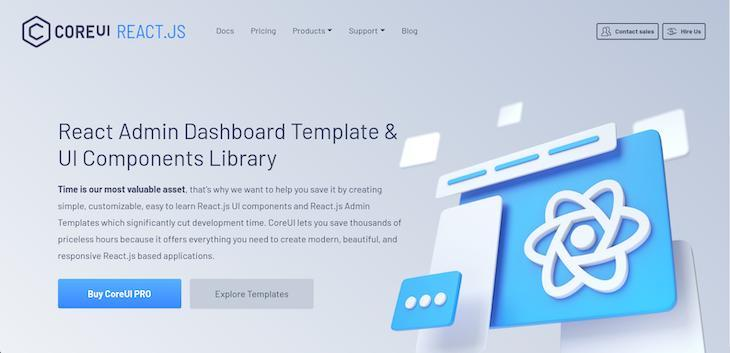button: (191, 279, 315, 311), (58, 279, 183, 310), (597, 24, 660, 42), (663, 23, 707, 41)
icon: (379, 27, 389, 35), (328, 28, 334, 34)
label: (346, 25, 380, 37), (291, 27, 327, 37), (250, 27, 279, 36), (217, 26, 235, 36), (400, 28, 419, 36)
